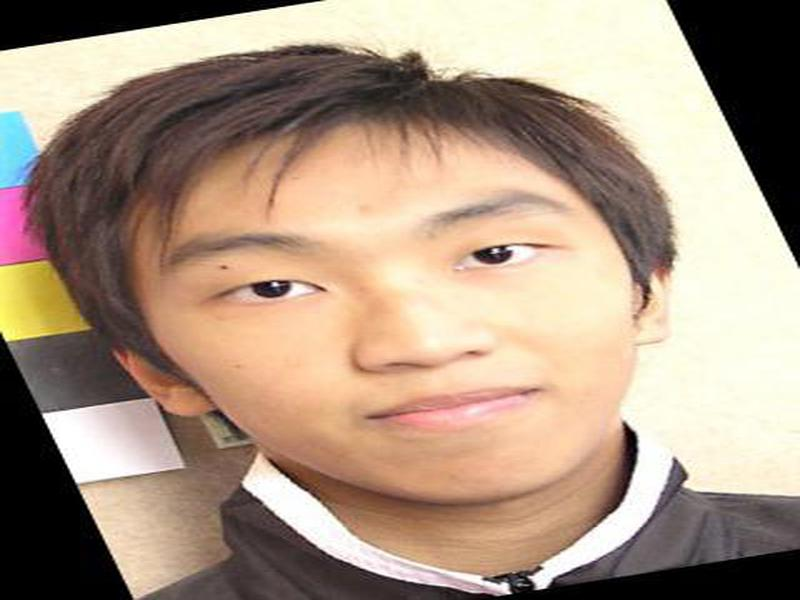without_mask: (129, 167, 633, 499)
